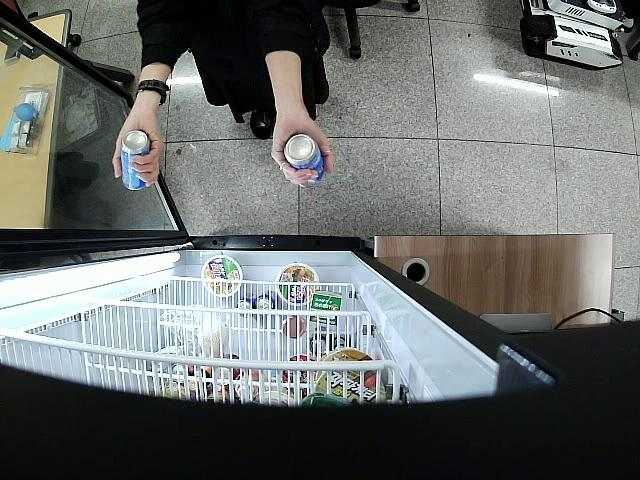00_hand: (269, 114, 333, 190), (111, 117, 165, 189)
15_letsbe: (119, 131, 152, 193), (283, 134, 325, 181)
